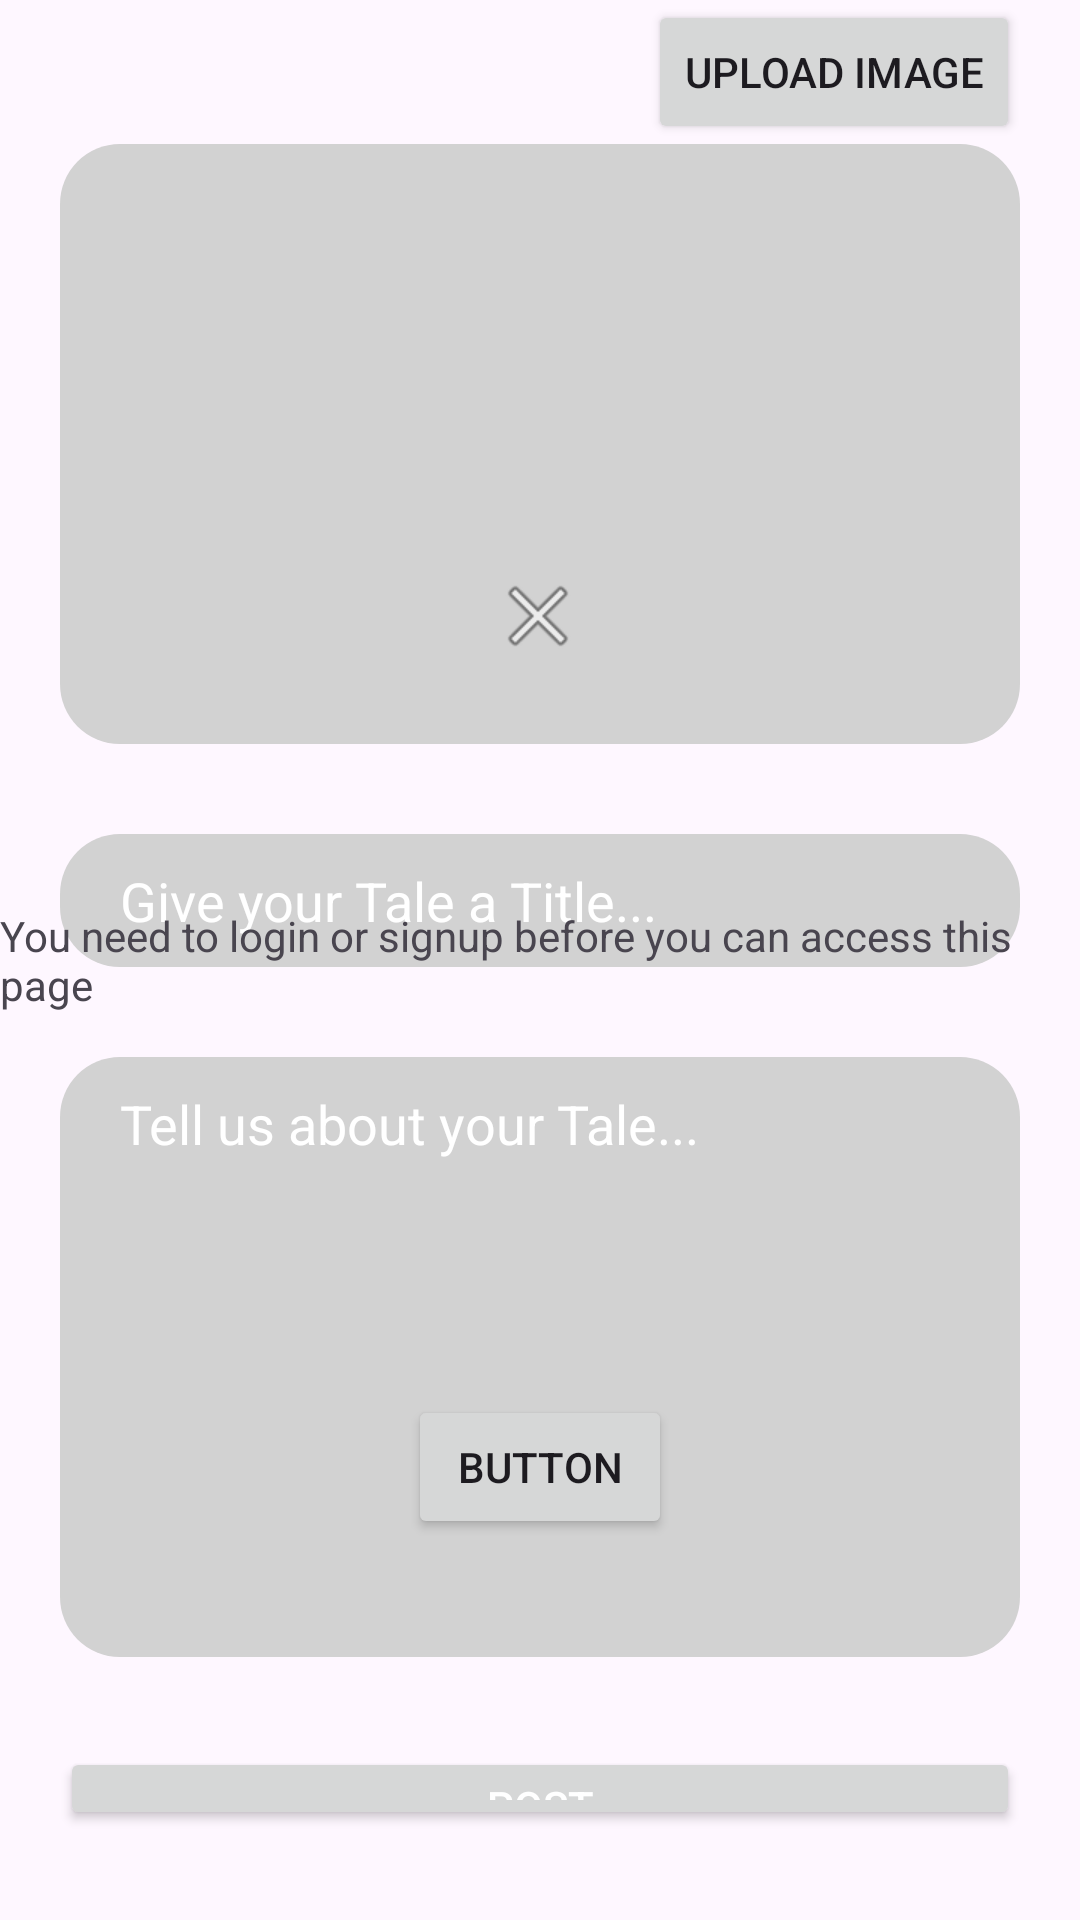

Icon bounding boxes for this 1080*1920 phone screenshot, format (x1, y1, x2, y2):
close clear cancel: (508, 586, 568, 646)
